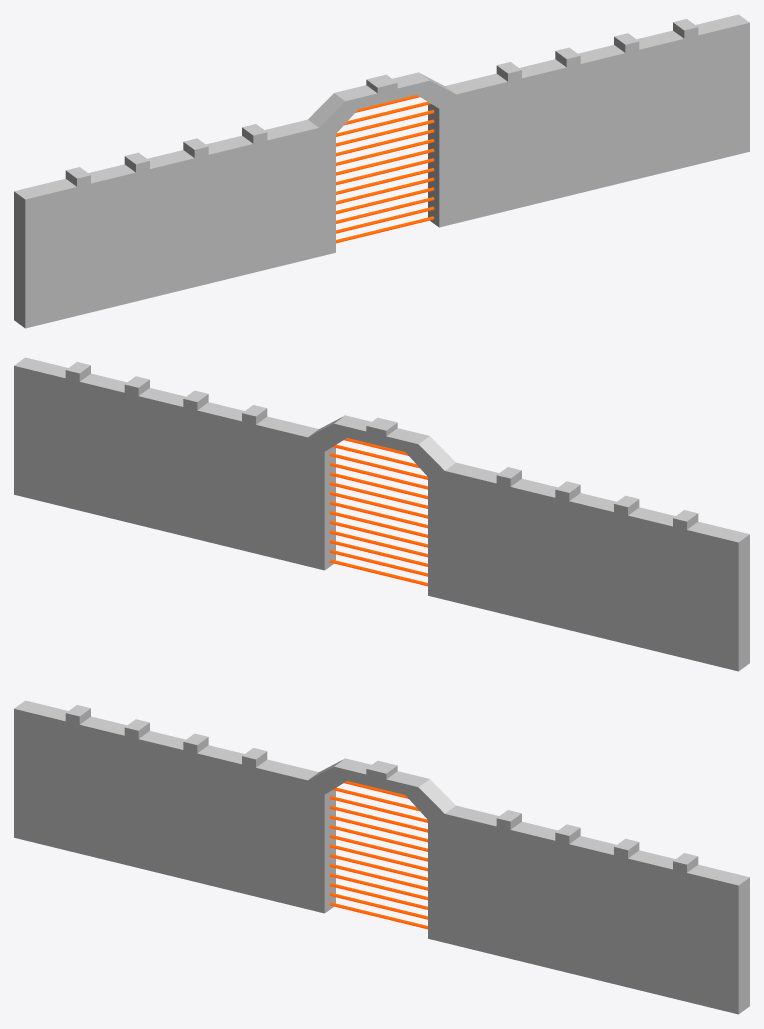
The model's file is Pintu Laser.fbx.
3 renders of one model, top to bottom at view 1: azimuth 30°, elevation 25°; view 2: azimuth 150°, elevation 25°; view 3: azimuth 330°, elevation 25°, orthographic.
Parts seen in each view (by area): view 1: Cube, Cylinder.011; view 2: Cube, Cylinder.011; view 3: Cube, Cylinder.011.
Part boxes in pixels (x1,y1,x2,y2): Cube: [14, 14, 749, 328]; Cylinder.011: [336, 95, 434, 243]; Cube: [14, 357, 749, 671]; Cylinder.011: [329, 438, 427, 586]; Cube: [14, 700, 749, 1014]; Cylinder.011: [329, 781, 427, 929].
Bounding box in the file's own units: 1998 × 408 × 54.14.
